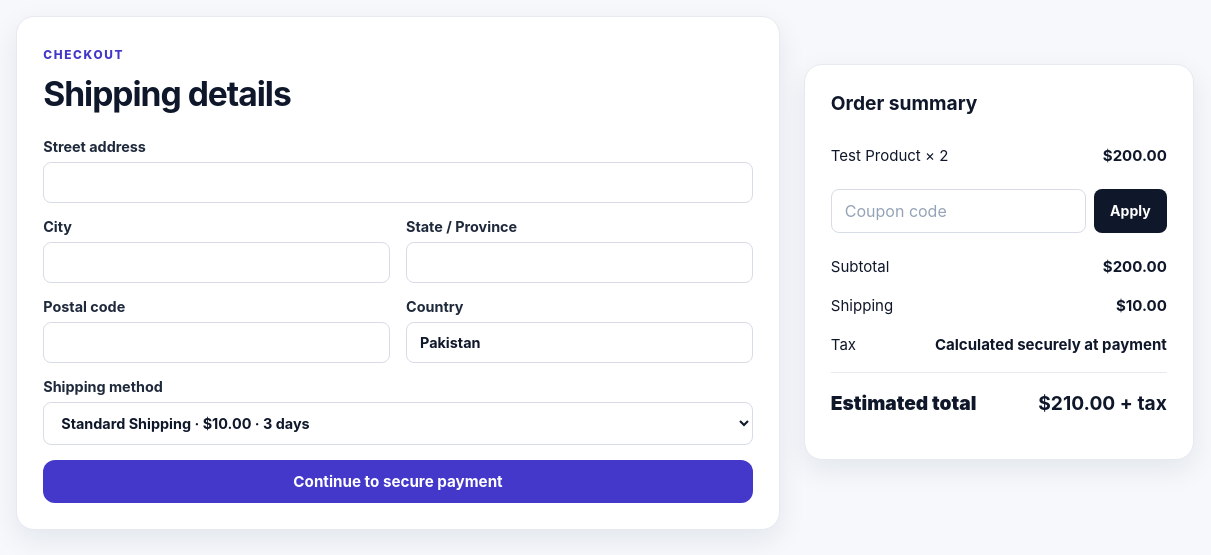
Test: Checkout › changes the selected shipping method
Expected: the heading "Shipping details" is shown, [43, 73, 291, 114]
Select "Express Shipping · $25.00 · 1 days" in the dropdown labelled "Shipping method" at (398, 424), box [43, 402, 753, 445]
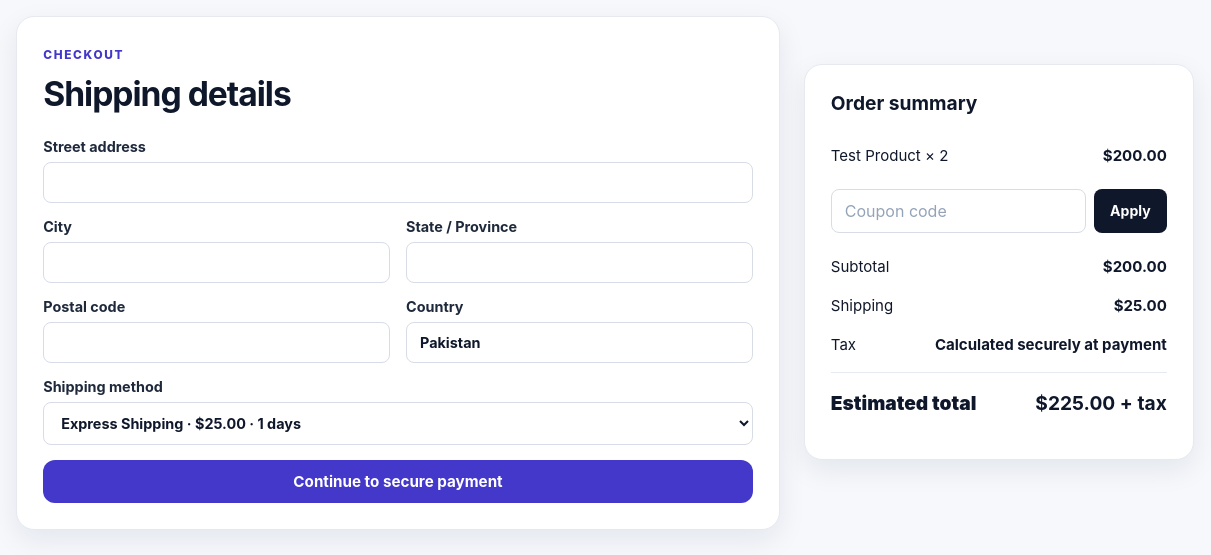
Now the text "$225.00 + tax" is shown, box [1035, 391, 1167, 415]
